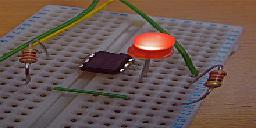LED: (127, 30, 177, 65)
